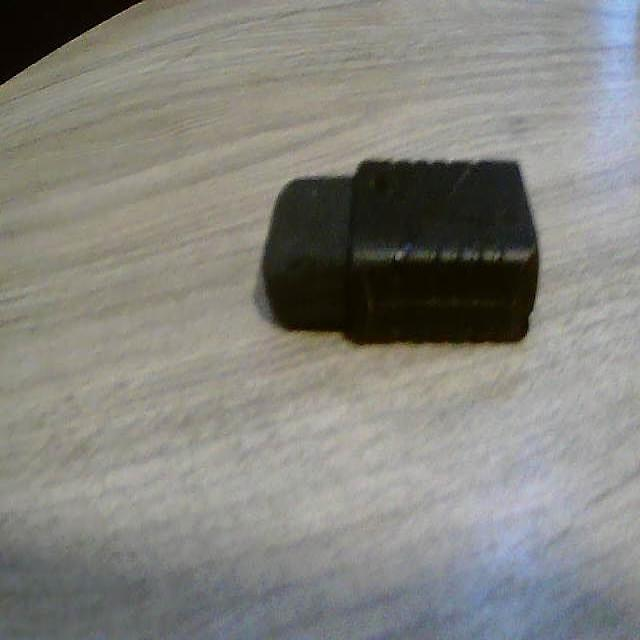borracha: (250, 160, 565, 347)
